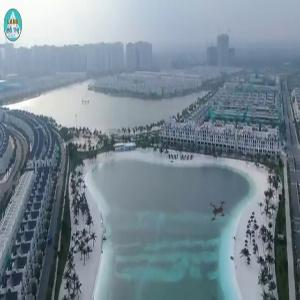drone: (184, 178, 250, 244)
